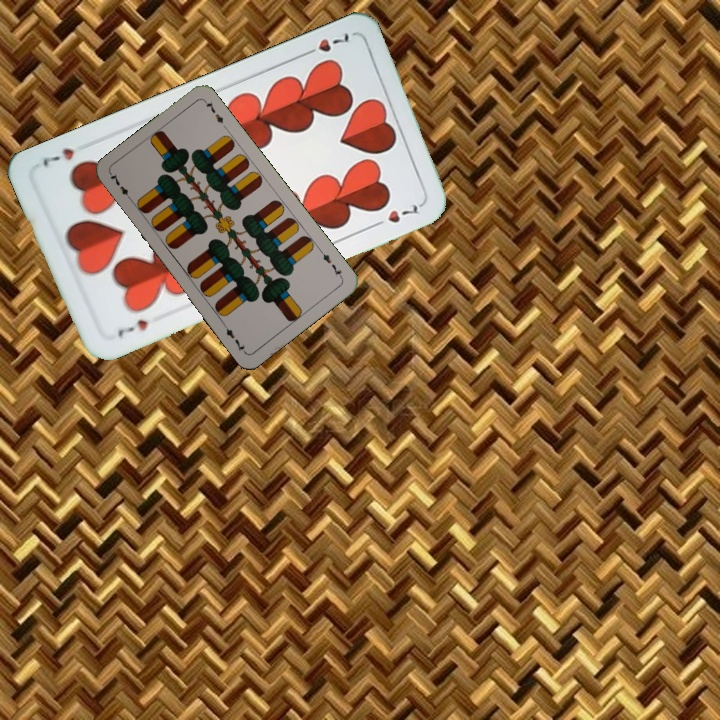E7: (316, 246, 345, 281), (106, 170, 135, 205)
H7: (298, 28, 355, 59), (113, 315, 151, 342)
